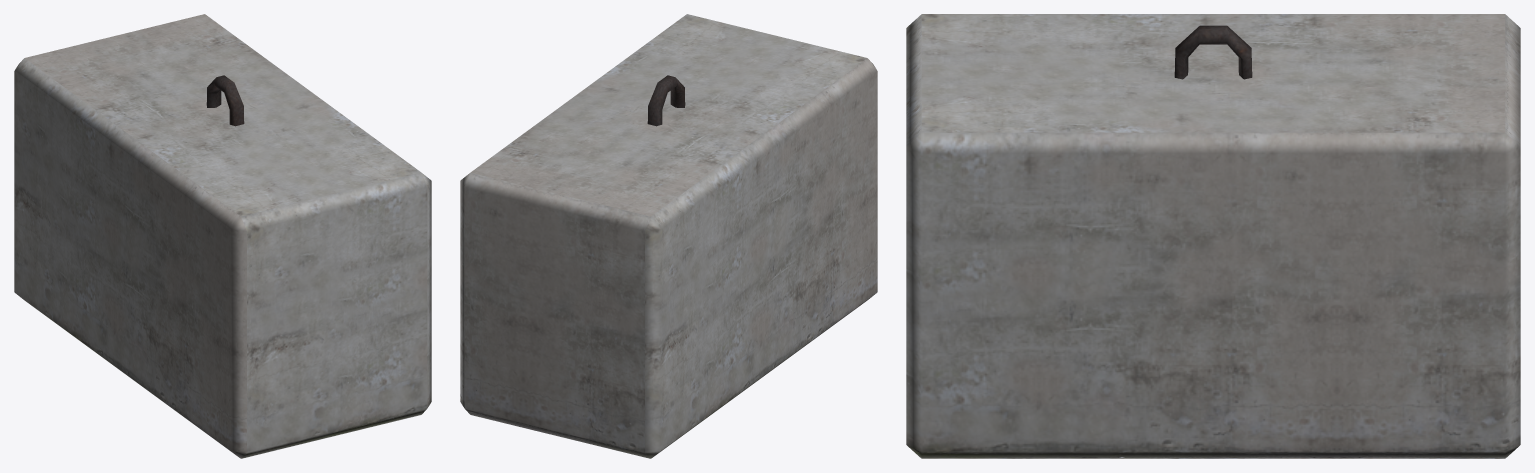
The model's file is ConcreteBarrier_C_A.fbx.
The picture shows the model from 3 angles, left to right: view 1: azimuth 30°, elevation 25°; view 2: azimuth 150°, elevation 25°; view 3: azimuth 270°, elevation 25°; orthographic projection. The views are drawn at different scales.
Visible parts, largest first — view 1: ConcreteBarrier_C_A; view 2: ConcreteBarrier_C_A; view 3: ConcreteBarrier_C_A.
Boxes of the visible parts, left/top/right/bottom form: ConcreteBarrier_C_A: left=14, top=14, right=431, bottom=458; ConcreteBarrier_C_A: left=460, top=14, right=877, bottom=458; ConcreteBarrier_C_A: left=906, top=14, right=1520, bottom=458.
Size of the model in its own units: 71 by 93.75 by 140.
